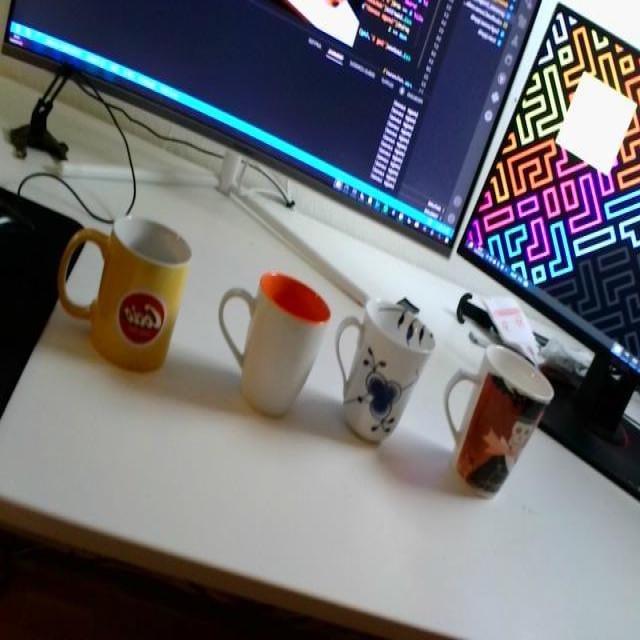cup: (55, 194, 193, 378), (210, 237, 331, 418), (445, 322, 557, 516), (336, 268, 436, 470)
